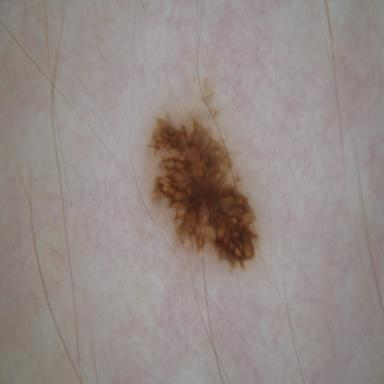nevus: (149, 115, 257, 271)
